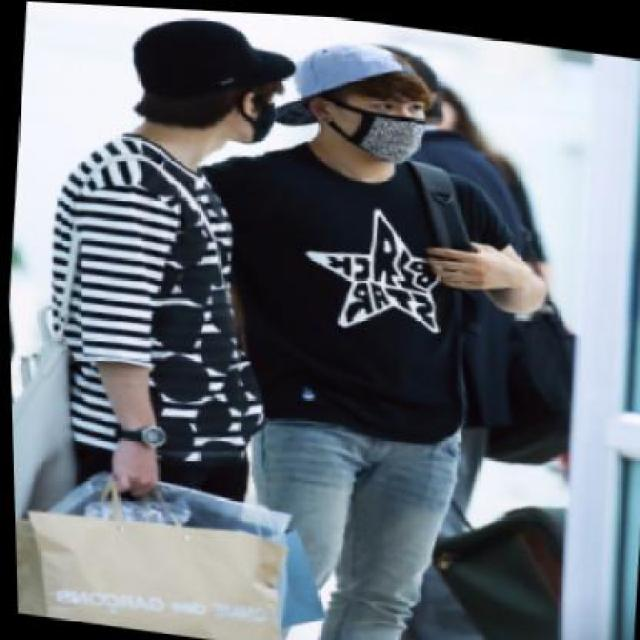hat: (119, 5, 298, 140), (259, 18, 432, 144)
